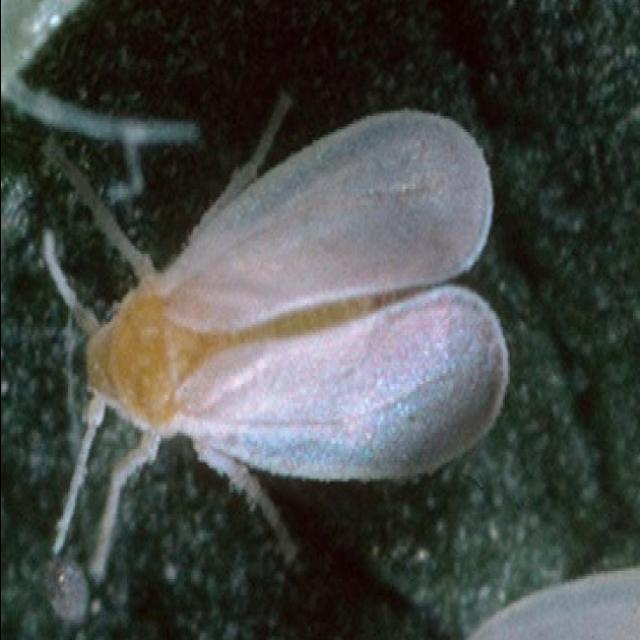Whitefly: (19, 67, 525, 609)
